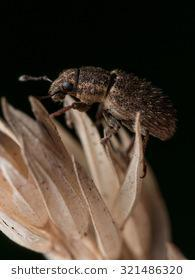weevils: (7, 44, 195, 196)
